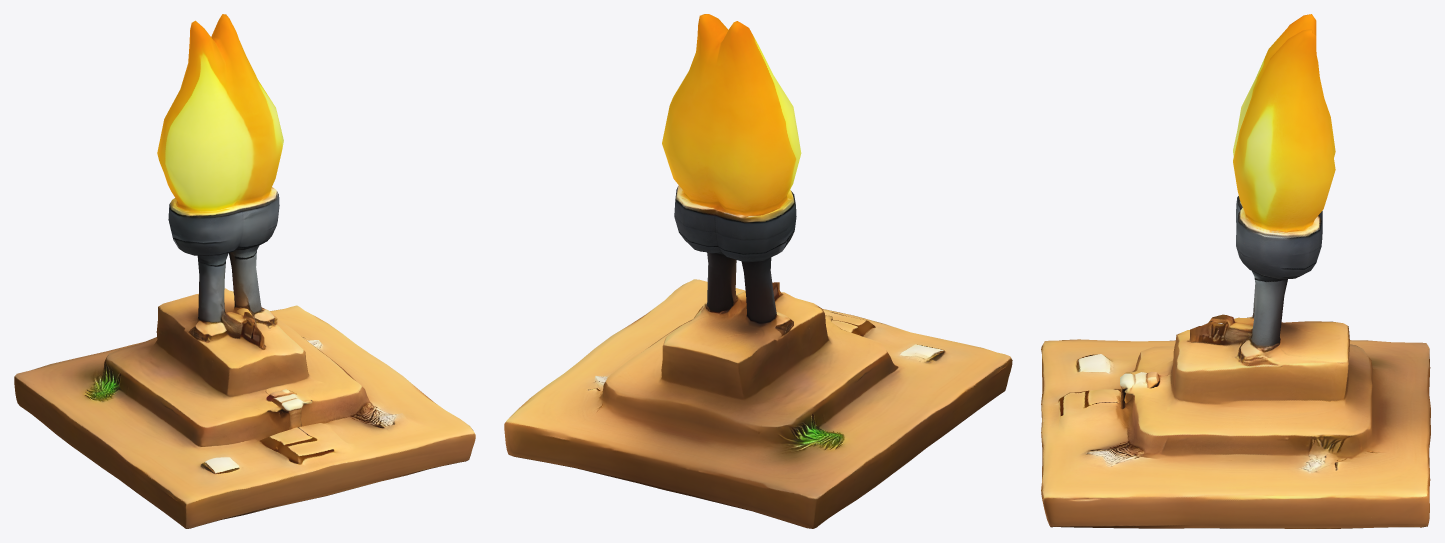
File: ANTORCHA.glb
3 views of the same model, side by side, from view 1: azimuth 30°, elevation 25°; view 2: azimuth 150°, elevation 25°; view 3: azimuth 270°, elevation 25° (orthographic). The views are drawn at different scales.
Visible parts, largest first — view 1: model; view 2: model; view 3: model.
Part boxes in pixels (<box>): model: <box>14,14,475,528</box>; model: <box>504,14,1012,528</box>; model: <box>1041,14,1430,528</box>.
Size of the model in its own units: 1.48 by 1.89 by 1.54.
1 material, 1 textured.
